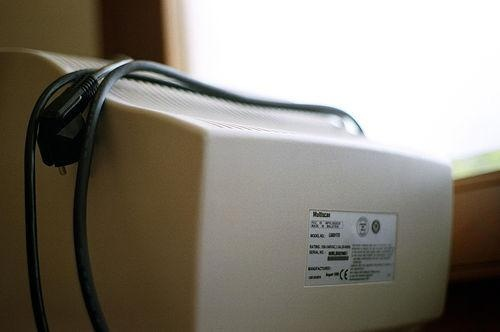tvmonitor: (1, 47, 454, 332)
